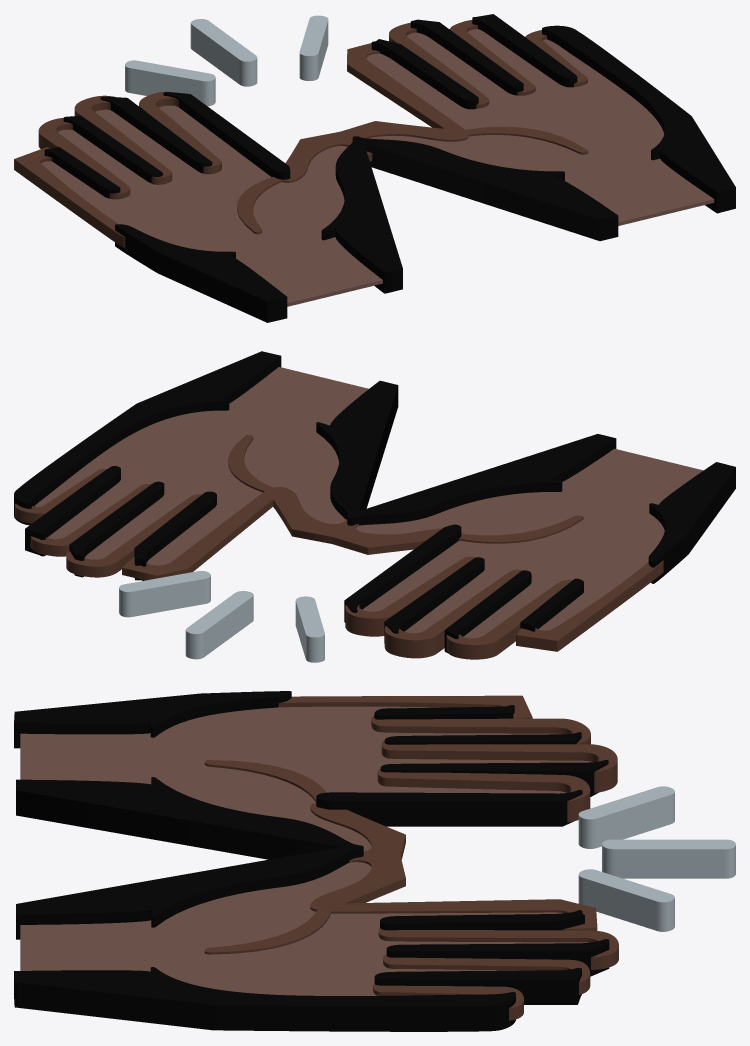
Rendered from emoji_u1f64c_1f3ff.glb.
3 views of the same model, one above another, from view 1: azimuth 30°, elevation 25°; view 2: azimuth 150°, elevation 25°; view 3: azimuth 270°, elevation 25° (orthographic). The views are drawn at different scales.
Visible parts, largest first — view 1: emoji_u1f64c_1f3ff; view 2: emoji_u1f64c_1f3ff; view 3: emoji_u1f64c_1f3ff.
Boxes of the visible parts, left/top/right/bottom form: emoji_u1f64c_1f3ff: left=14, top=14, right=735, bottom=322; emoji_u1f64c_1f3ff: left=14, top=351, right=735, bottom=662; emoji_u1f64c_1f3ff: left=14, top=691, right=735, bottom=1031.
Size of the model in its own units: 0.0322 by 0.0014 by 0.031.
